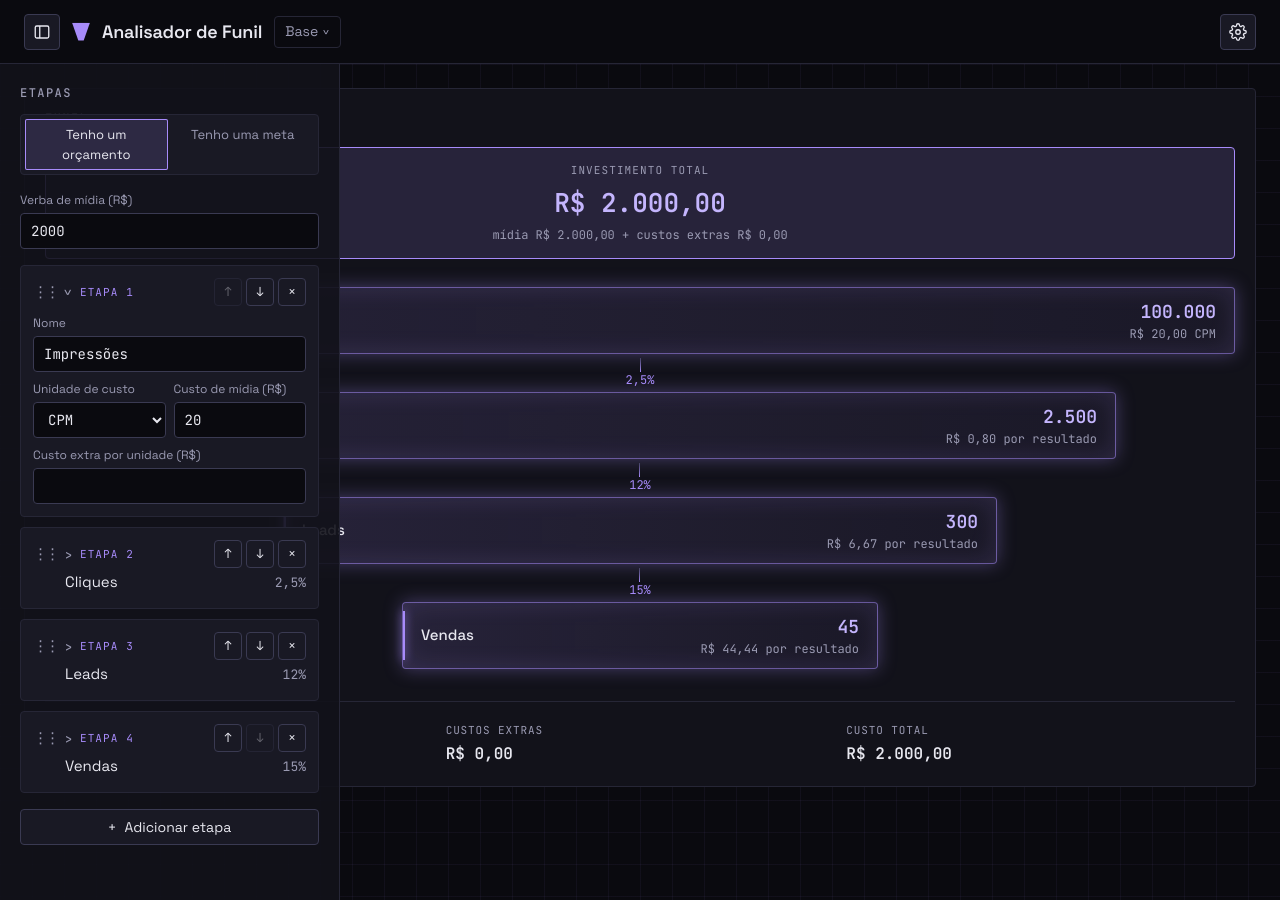
Scenario: extra: com Base marcado, o incompatível fica desabilitado e o compatível habilitado
The width and height of the screenshot is (1280, 900).
Click the button "Base ›" at (308, 32), box x1=274 y1=16 x2=341 y2=48
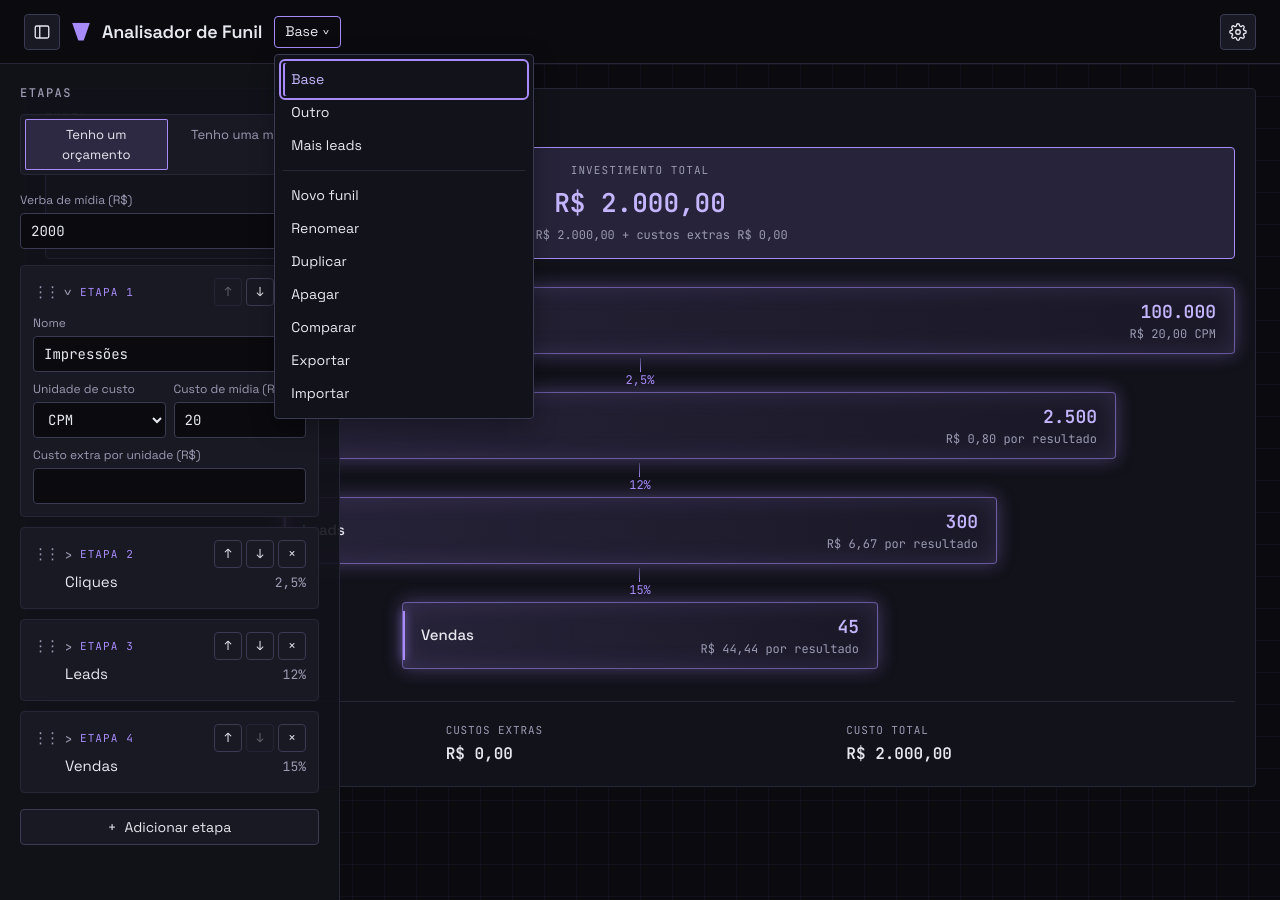
Click the button "Comparar" at (404, 327), box x1=283 y1=310 x2=525 y2=344
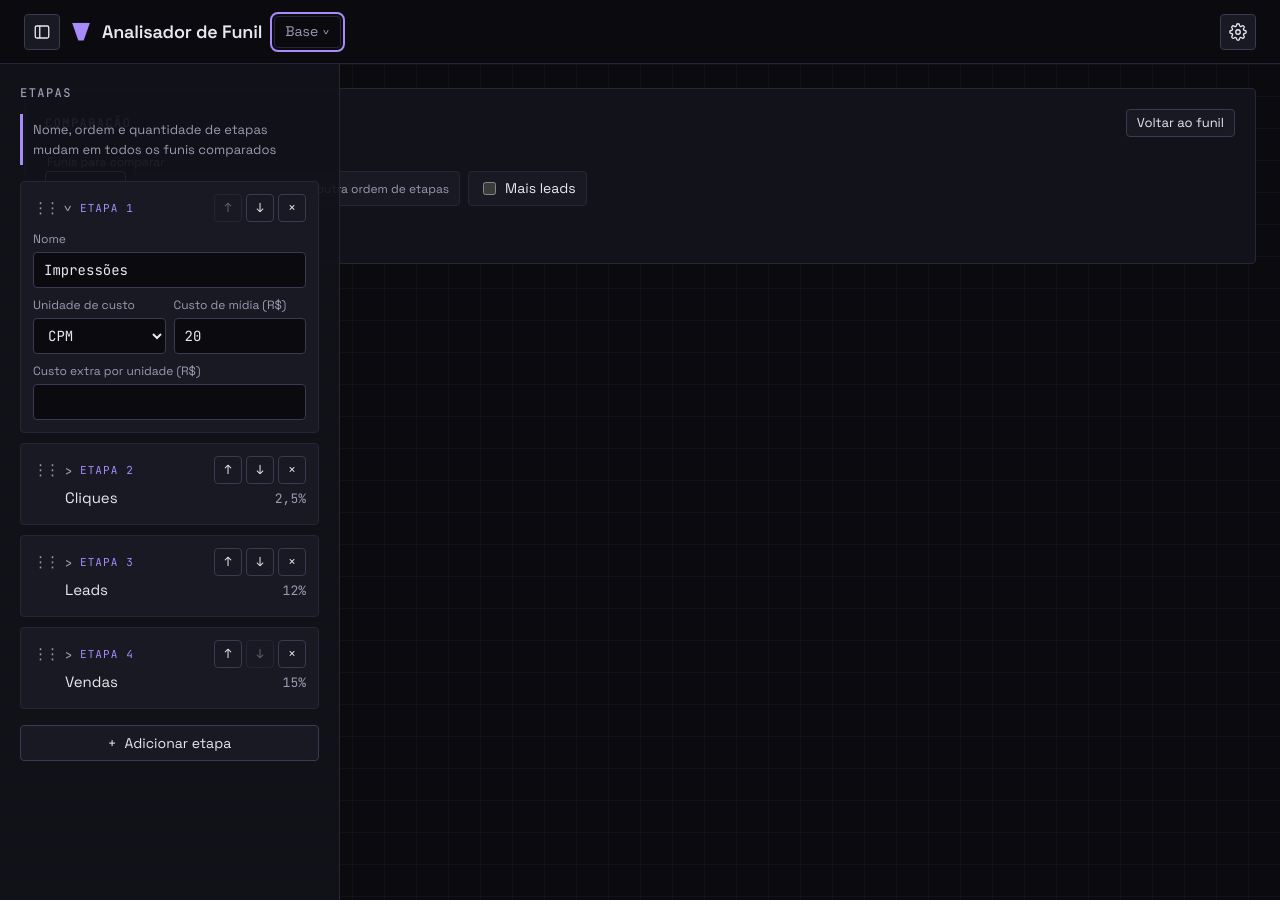
Expected: the checkbox labelled "Outro" is disabled, x1=149 y1=182 x2=162 y2=195
Expected: the checkbox labelled "Mais leads" is enabled, x1=483 y1=182 x2=496 y2=195
